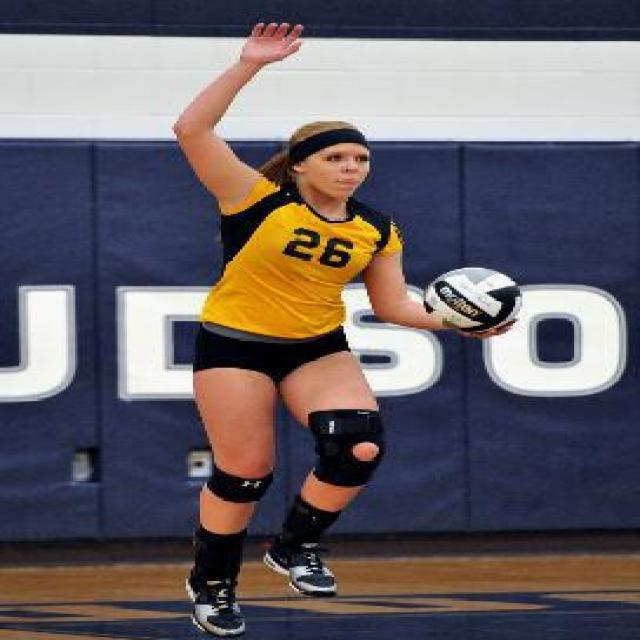volleyball: (424, 266, 523, 332)
